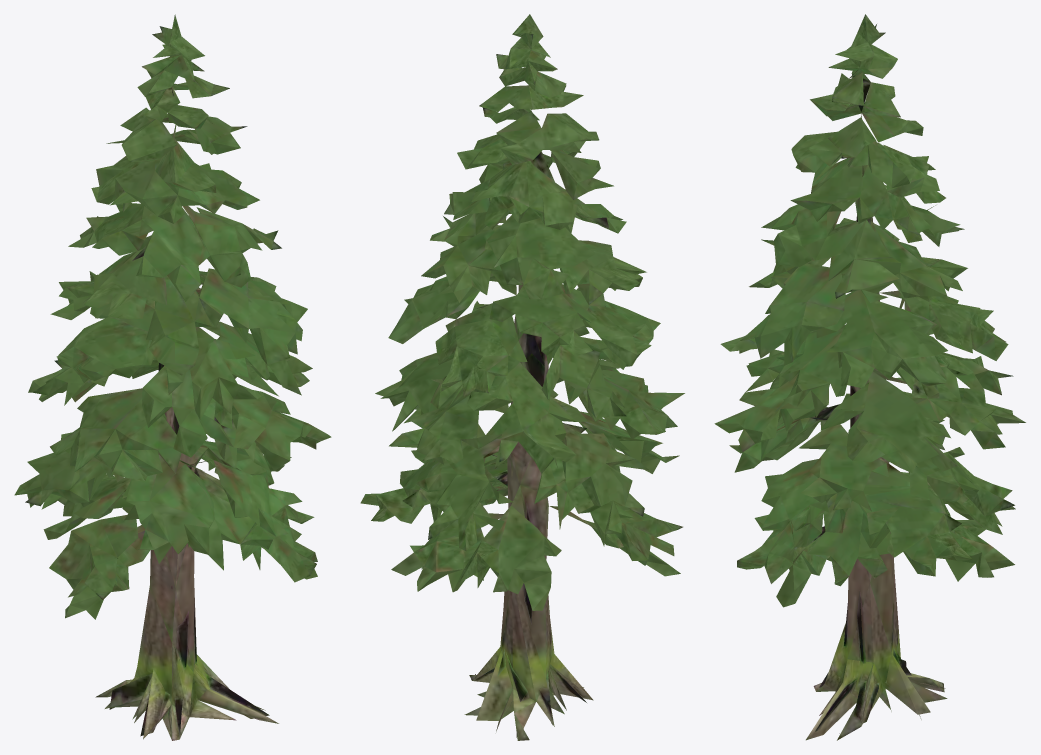
Rendered from tree-pine.glb.
3 views of the same model, side by side, from view 1: azimuth 30°, elevation 25°; view 2: azimuth 150°, elevation 25°; view 3: azimuth 270°, elevation 25° (orthographic). The views are drawn at different scales.
Parts seen in each view (by area): view 1: Mesh_0; view 2: Mesh_0; view 3: Mesh_0.
Boxes of the visible parts, x1,y1,x2,y2 form: Mesh_0: (14,14,331,740); Mesh_0: (360,14,684,740); Mesh_0: (714,14,1025,740).
Size of the model in its own units: 0.7522 by 1.88 by 0.7686.
Materials: 1 (1 with a texture image).
